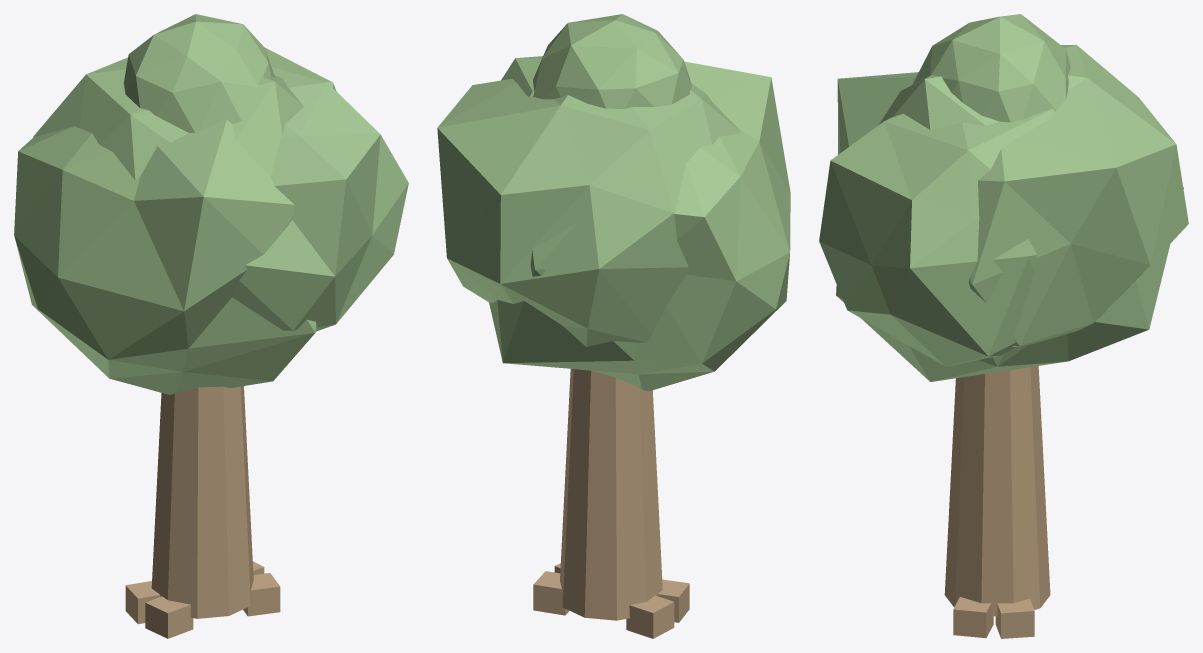
File: chibi_tree_green_a.glb
3 views of the same model, side by side, from view 1: azimuth 30°, elevation 25°; view 2: azimuth 150°, elevation 25°; view 3: azimuth 270°, elevation 25° (orthographic).
Visible parts, largest first — view 1: ChibiTree_green_1; view 2: ChibiTree_green_1; view 3: ChibiTree_green_1.
Boxes of the visible parts, x1,y1,x2,y2 form: ChibiTree_green_1: (14, 14, 408, 638); ChibiTree_green_1: (437, 14, 790, 638); ChibiTree_green_1: (819, 14, 1188, 638).
Bounding box in the file's own units: 2 × 3.44 × 1.96.
